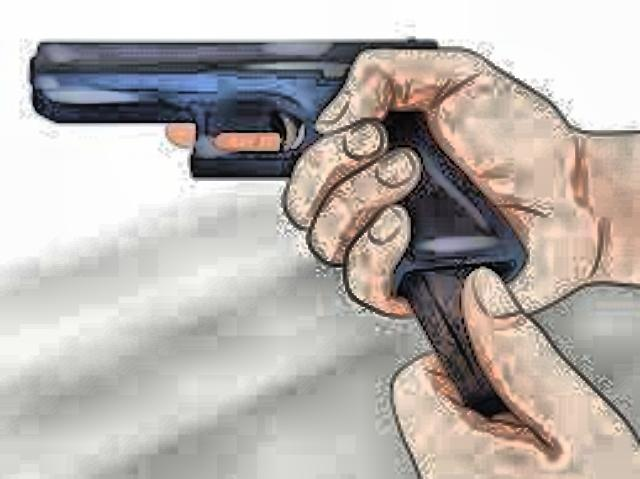pistol: (23, 32, 529, 296)
